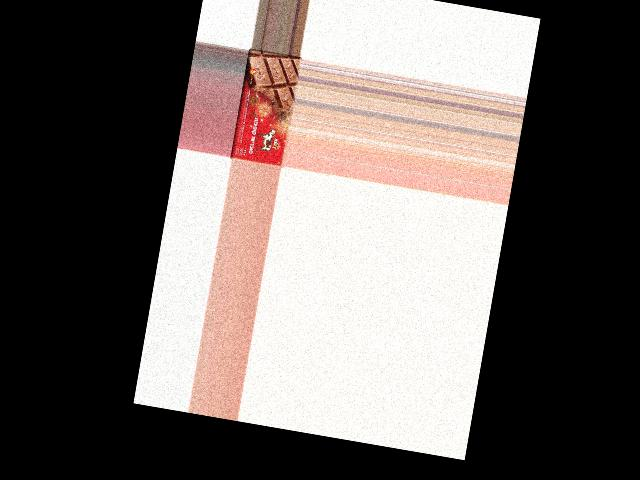chocolate: (230, 48, 301, 168)
